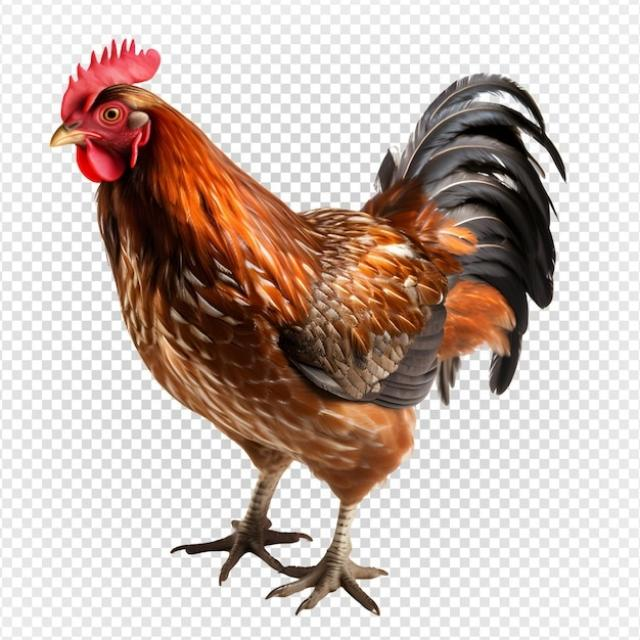Chicken: (50, 36, 568, 615)
